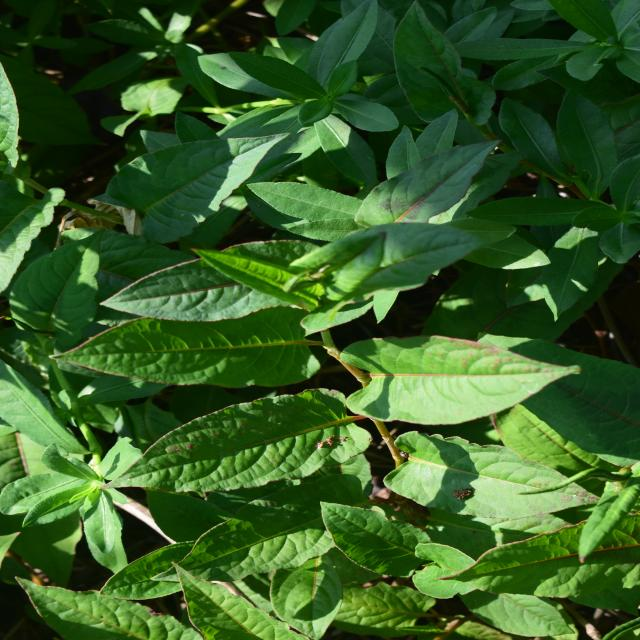Chinese_knotweed: (152, 68, 416, 552)
